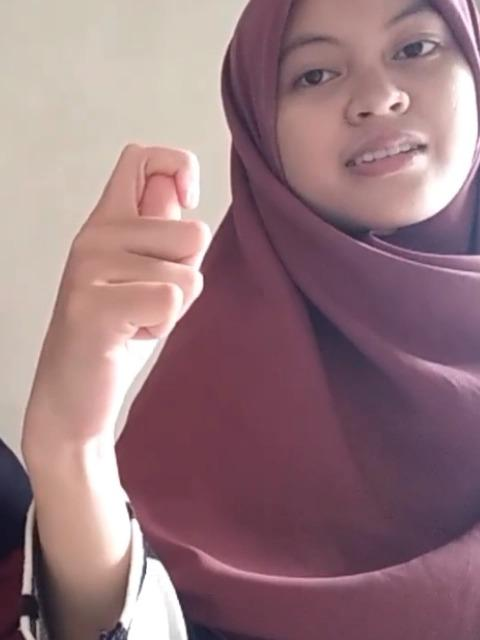T: (44, 144, 214, 414)
